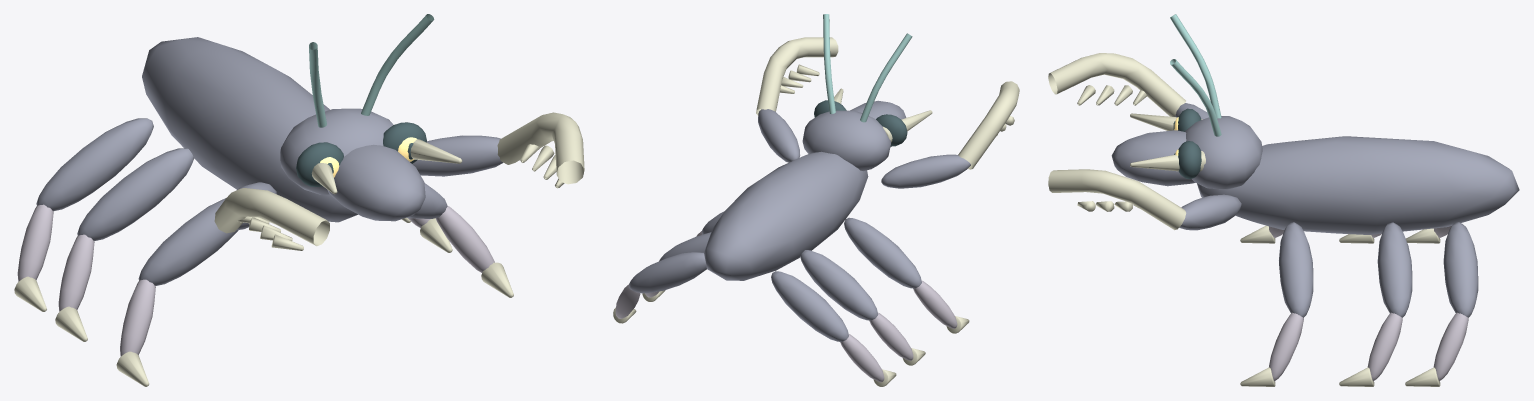
The model's file is bio_mantid_25_far.glb.
3 renders of one model, left to right at view 1: azimuth 30°, elevation 25°; view 2: azimuth 150°, elevation 25°; view 3: azimuth 270°, elevation 25°, orthographic. The views are drawn at different scales.
Visible parts, largest first — view 1: Articulated abdomen, Cranium, Upper leg.004, Upper leg.002, Swept scythe, Swept scythe.001, Upper leg, Raptorial arm.001, Protected orbit, Antenna, Lower leg, Lower leg.002 (+9 smaller); view 2: Articulated abdomen, Cranium, Swept scythe.001, Upper leg, Upper leg.004, Upper leg.002, Upper leg.005, Raptorial arm, Swept scythe, Antenna, Raptorial arm.001, Lower leg.004 (+6 smaller); view 3: Articulated abdomen, Cranium, Swept scythe, Swept scythe.001, Upper leg.003, Upper leg.005, Upper leg.001, Raptorial arm.001, Antenna, Lower leg.003, Lower leg.001, Lower leg.005 (+6 smaller).
Part boxes in pixels (x1=…): Articulated abdomen: x1=142, y1=37, x2=357, y2=222; Cranium: x1=280, y1=108, x2=425, y2=221; Upper leg.004: x1=36, y1=118, x2=153, y2=210; Upper leg.002: x1=77, y1=148, x2=194, y2=240; Swept scythe: x1=214, y1=188, x2=329, y2=250; Swept scythe.001: x1=497, y1=112, x2=584, y2=188; Upper leg: x1=138, y1=198, x2=238, y2=285; Raptorial arm.001: x1=412, y1=135, x2=503, y2=176; Protected orbit: x1=296, y1=122, x2=426, y2=186; Antenna: x1=309, y1=14, x2=434, y2=127; Lower leg: x1=120, y1=279, x2=155, y2=356; Lower leg.002: x1=58, y1=234, x2=94, y2=311; Articulated abdomen: x1=704, y1=151, x2=868, y2=280; Cranium: x1=802, y1=100, x2=906, y2=171; Swept scythe.001: x1=756, y1=37, x2=838, y2=115; Upper leg: x1=844, y1=217, x2=921, y2=288; Upper leg.004: x1=771, y1=271, x2=848, y2=341; Upper leg.002: x1=800, y1=250, x2=878, y2=320; Upper leg.005: x1=629, y1=252, x2=706, y2=293; Raptorial arm: x1=881, y1=154, x2=970, y2=188; Swept scythe: x1=958, y1=81, x2=1019, y2=169; Antenna: x1=823, y1=14, x2=912, y2=122; Raptorial arm.001: x1=758, y1=109, x2=800, y2=162; Lower leg.004: x1=840, y1=334, x2=884, y2=382; Articulated abdomen: x1=1197, y1=136, x2=1519, y2=234; Cranium: x1=1111, y1=116, x2=1262, y2=189; Swept scythe: x1=1048, y1=53, x2=1185, y2=116; Swept scythe.001: x1=1048, y1=169, x2=1186, y2=230; Upper leg.003: x1=1377, y1=222, x2=1412, y2=317; Upper leg.005: x1=1443, y1=222, x2=1478, y2=317; Upper leg.001: x1=1279, y1=222, x2=1313, y2=317; Raptorial arm.001: x1=1179, y1=194, x2=1241, y2=230; Antenna: x1=1170, y1=14, x2=1221, y2=136; Lower leg.003: x1=1367, y1=312, x2=1402, y2=381; Lower leg.001: x1=1269, y1=312, x2=1303, y2=381; Lower leg.005: x1=1433, y1=312, x2=1468, y2=381.
Size of the model in its own units: 2.51 by 2.14 by 3.29.
